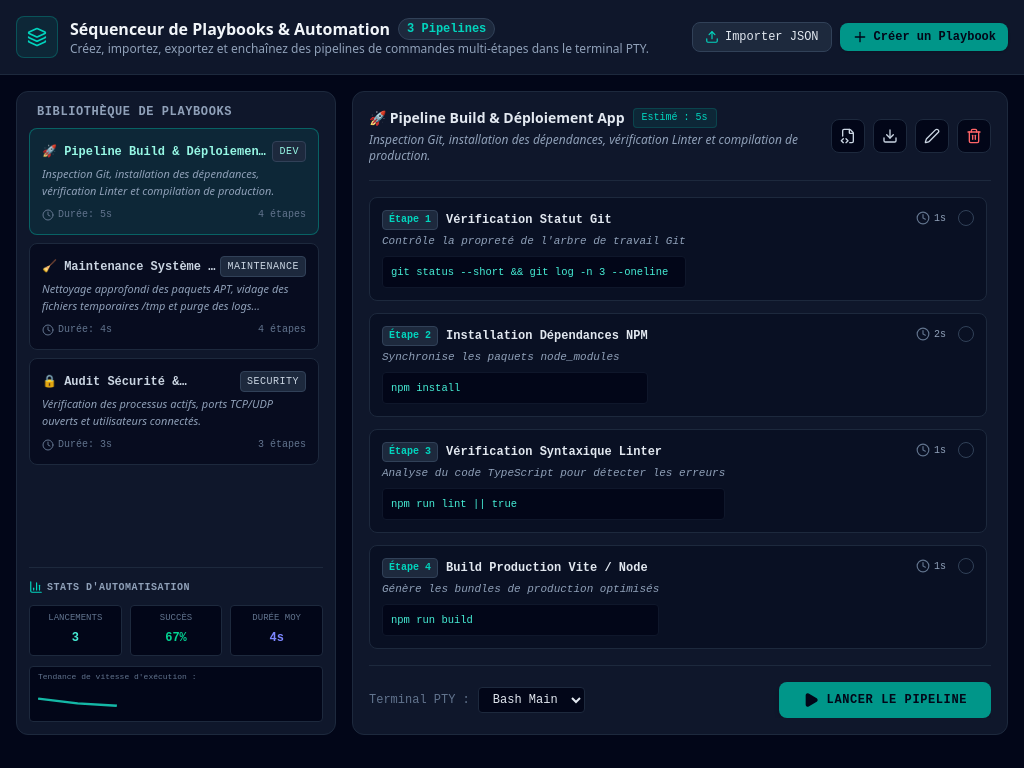
Test: PlaybookSequencer — export, import, création, suppression › crée un playbook via le modal
Click the button "Créer un Playbook" at (924, 37), box [840,23,1008,51]
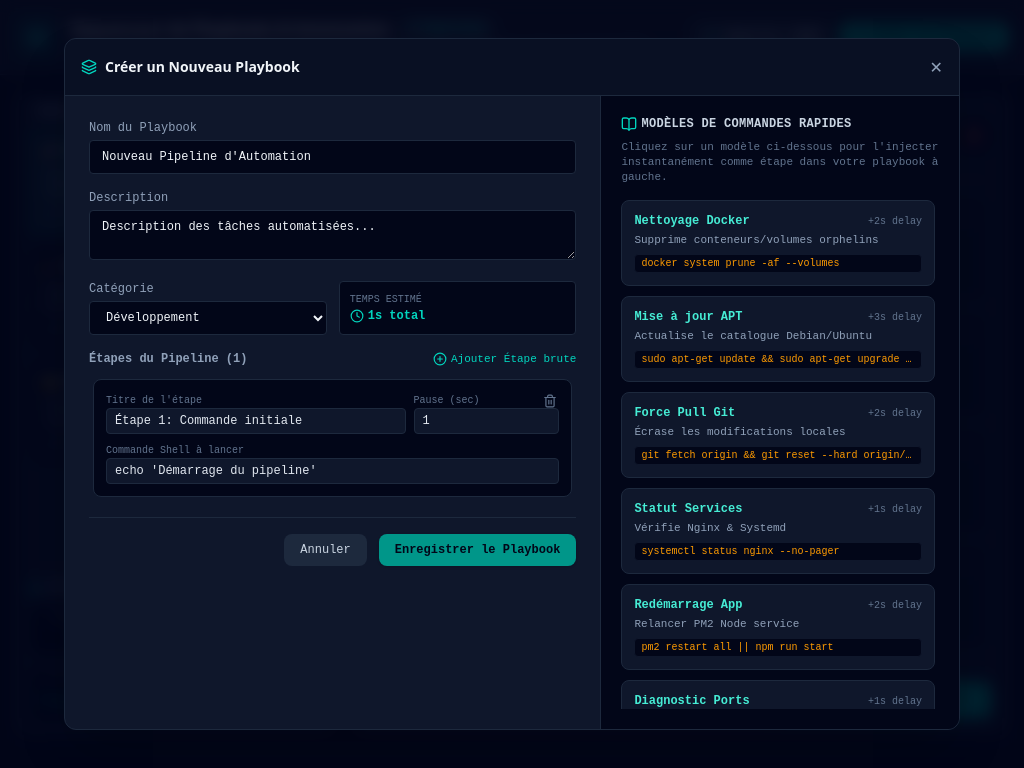
Expected: the heading "Créer un Nouveau Playbook" is shown, [81,57,300,77]
